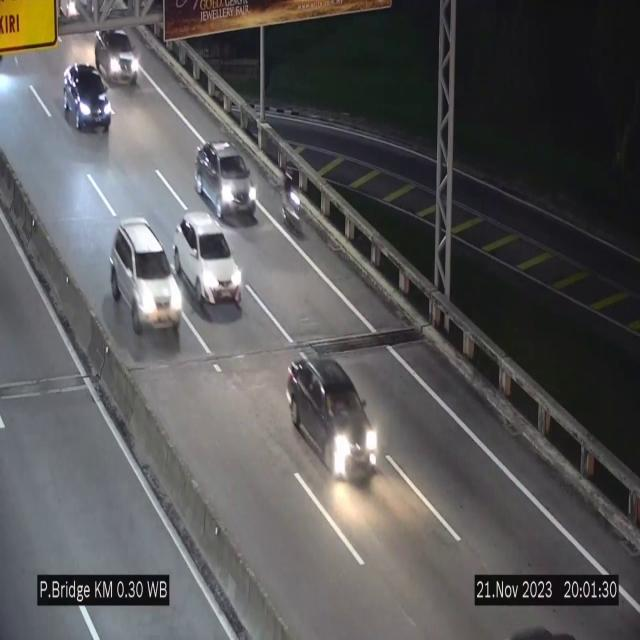Car: (283, 350, 379, 490), (110, 220, 182, 344), (174, 211, 242, 309), (195, 141, 257, 221), (94, 25, 144, 92), (63, 62, 111, 131)
Motorcycle: (280, 172, 302, 236)
